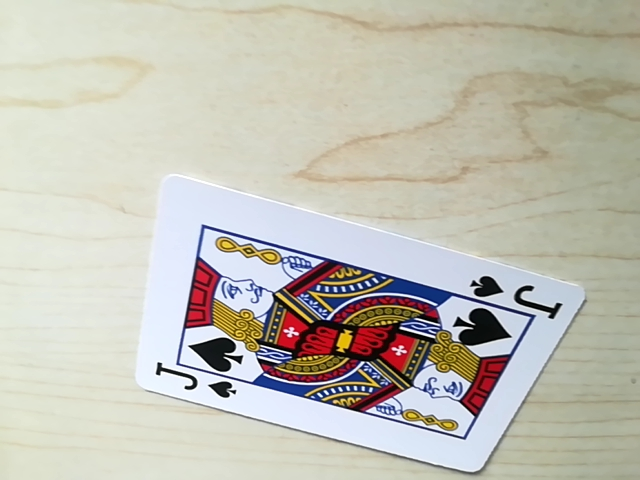ht j: (465, 269, 555, 313), (151, 367, 240, 401)
